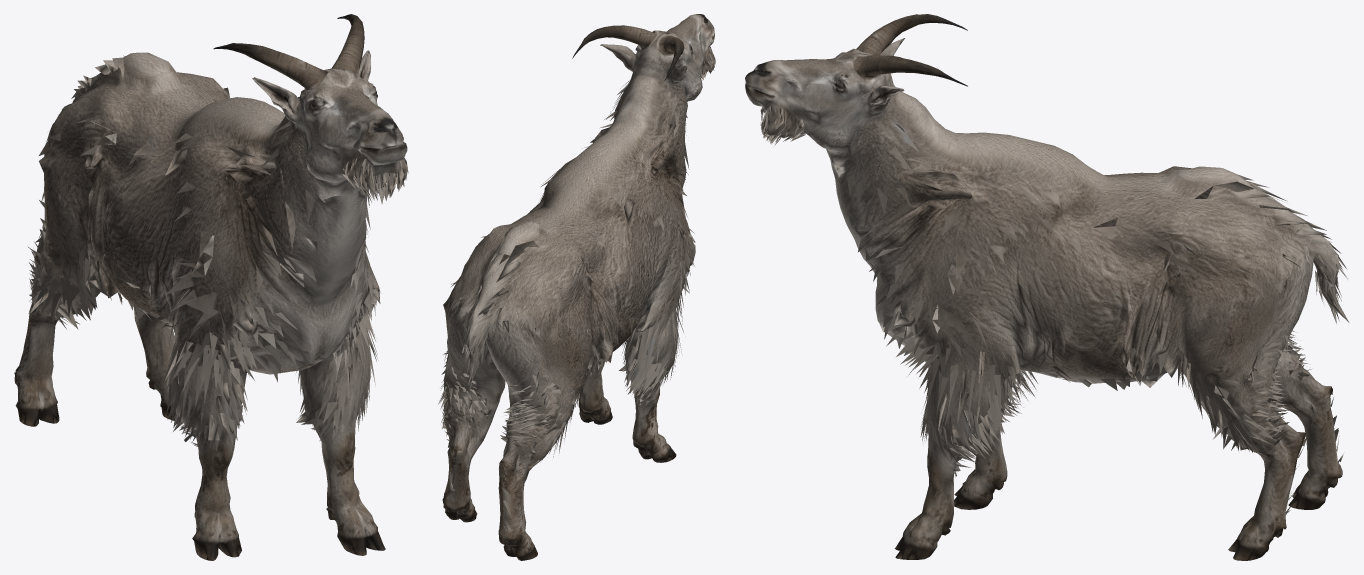
Rendered from liv-goat.fbx.
3 renders of one model, left to right at view 1: azimuth 30°, elevation 25°; view 2: azimuth 150°, elevation 25°; view 3: azimuth 270°, elevation 25°, orthographic. The views are drawn at different scales.
Parts seen in each view (by area): view 1: Mesh_0; view 2: Mesh_0; view 3: Mesh_0.
Part boxes in pixels (bbox=[...]): Mesh_0: bbox=[14, 14, 408, 560]; Mesh_0: bbox=[438, 14, 715, 560]; Mesh_0: bbox=[745, 14, 1349, 560].
Bounding box in the file's own units: 33.79 × 85.5 × 95.8.
1 material, 1 textured.
